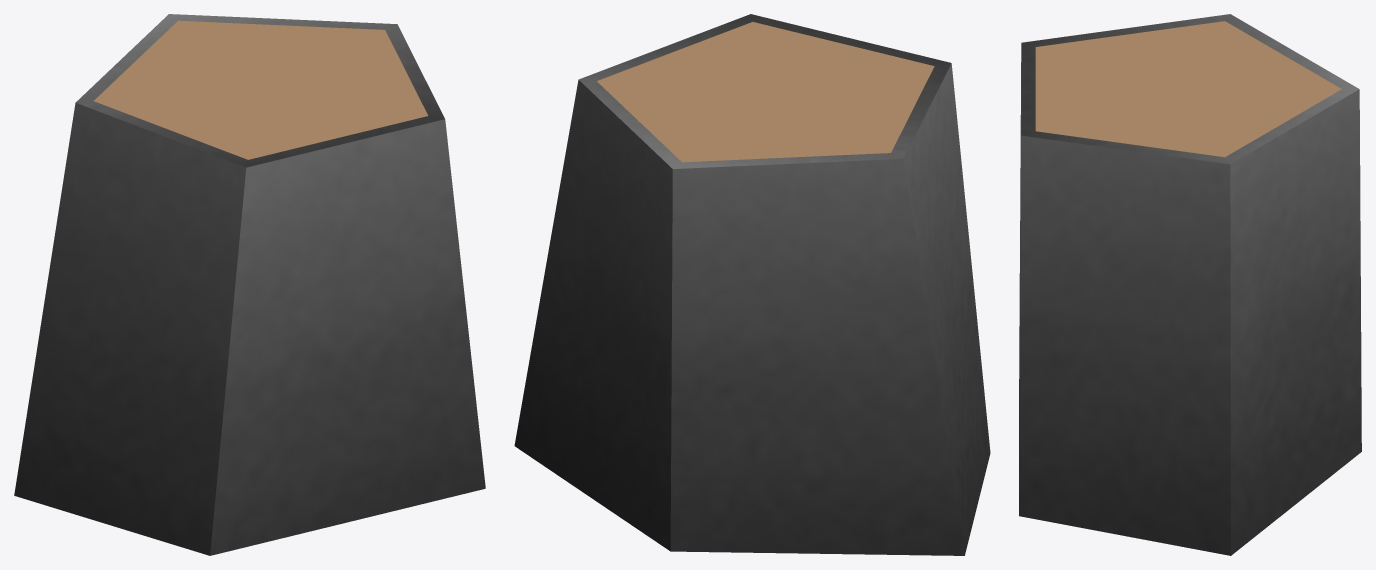
File: Birch_Stump_04.fbx
3 renders of one model, left to right at view 1: azimuth 30°, elevation 25°; view 2: azimuth 150°, elevation 25°; view 3: azimuth 270°, elevation 25°, orthographic. The views are drawn at different scales.
Visible parts, largest first — view 1: Birch_Stump_04; view 2: Birch_Stump_04; view 3: Birch_Stump_04.
Boxes of the visible parts, x1=… form: Birch_Stump_04: x1=14, y1=14, x2=485, y2=555; Birch_Stump_04: x1=514, y1=14, x2=990, y2=555; Birch_Stump_04: x1=1019, y1=14, x2=1361, y2=555.
Bounding box in the file's own units: 81.96 × 66.42 × 56.98.
